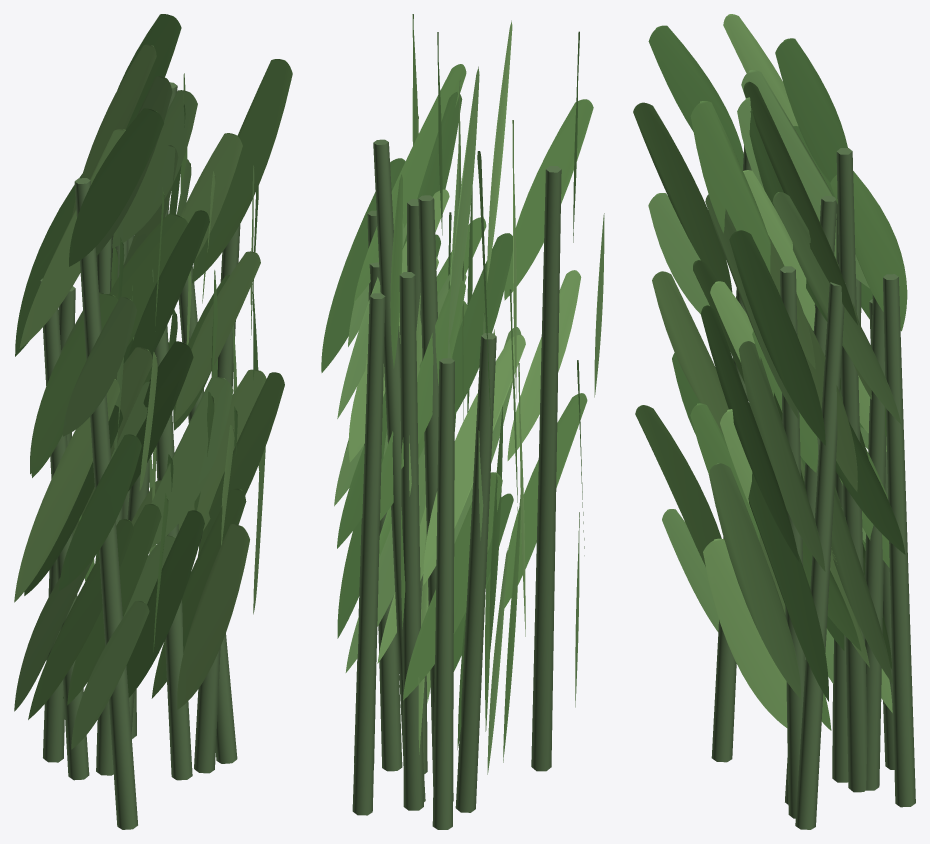
The model's file is plant-hygrophila-rear.glb.
3 views of the same model, side by side, from view 1: azimuth 30°, elevation 25°; view 2: azimuth 150°, elevation 25°; view 3: azimuth 270°, elevation 25° (orthographic). The views are drawn at different scales.
Parts seen in each view (by area): view 1: plant-hygrophila-rear; view 2: plant-hygrophila-rear; view 3: plant-hygrophila-rear.
Boxes of the visible parts, left/top/right/bottom form: plant-hygrophila-rear: left=14, top=14, right=292, bottom=829; plant-hygrophila-rear: left=321, top=14, right=604, bottom=829; plant-hygrophila-rear: left=633, top=14, right=915, bottom=829.
Size of the model in its own units: 0.4669 by 1.46 by 0.4936.
